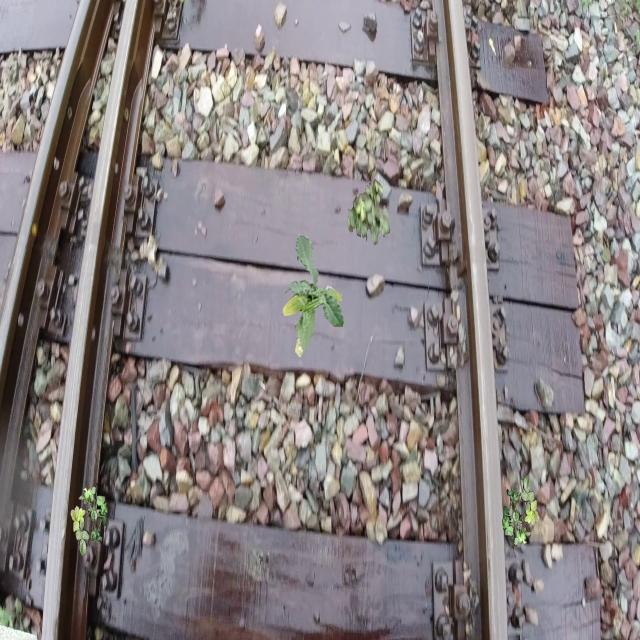Plant: (282, 233, 344, 358), (347, 179, 390, 246), (502, 475, 540, 548), (71, 483, 108, 556)
